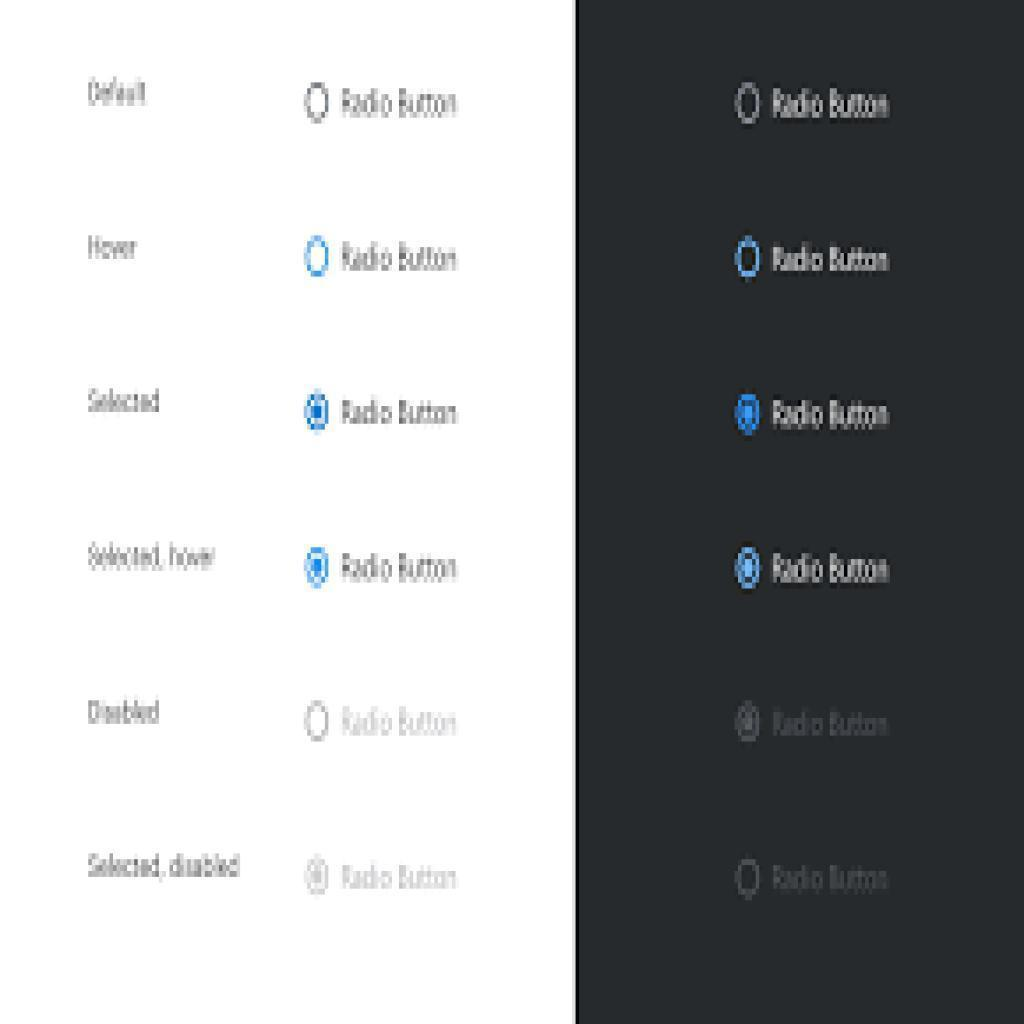label: (84, 537, 217, 575), (83, 850, 243, 881), (767, 859, 897, 897), (770, 86, 896, 125), (767, 396, 891, 435), (769, 550, 893, 587), (340, 84, 460, 122), (339, 236, 459, 274), (339, 860, 463, 896), (340, 704, 459, 741), (771, 704, 893, 740), (337, 394, 458, 429), (767, 243, 891, 276), (339, 551, 459, 585), (86, 381, 163, 422), (84, 695, 157, 731), (83, 223, 140, 267), (87, 76, 149, 109)
radio: (732, 388, 765, 439), (301, 384, 331, 433), (733, 236, 764, 283), (301, 697, 329, 744), (734, 80, 761, 127), (303, 80, 331, 125), (304, 233, 330, 281), (734, 702, 762, 744), (736, 545, 762, 589), (304, 547, 329, 590), (304, 853, 329, 895), (737, 859, 762, 899)
